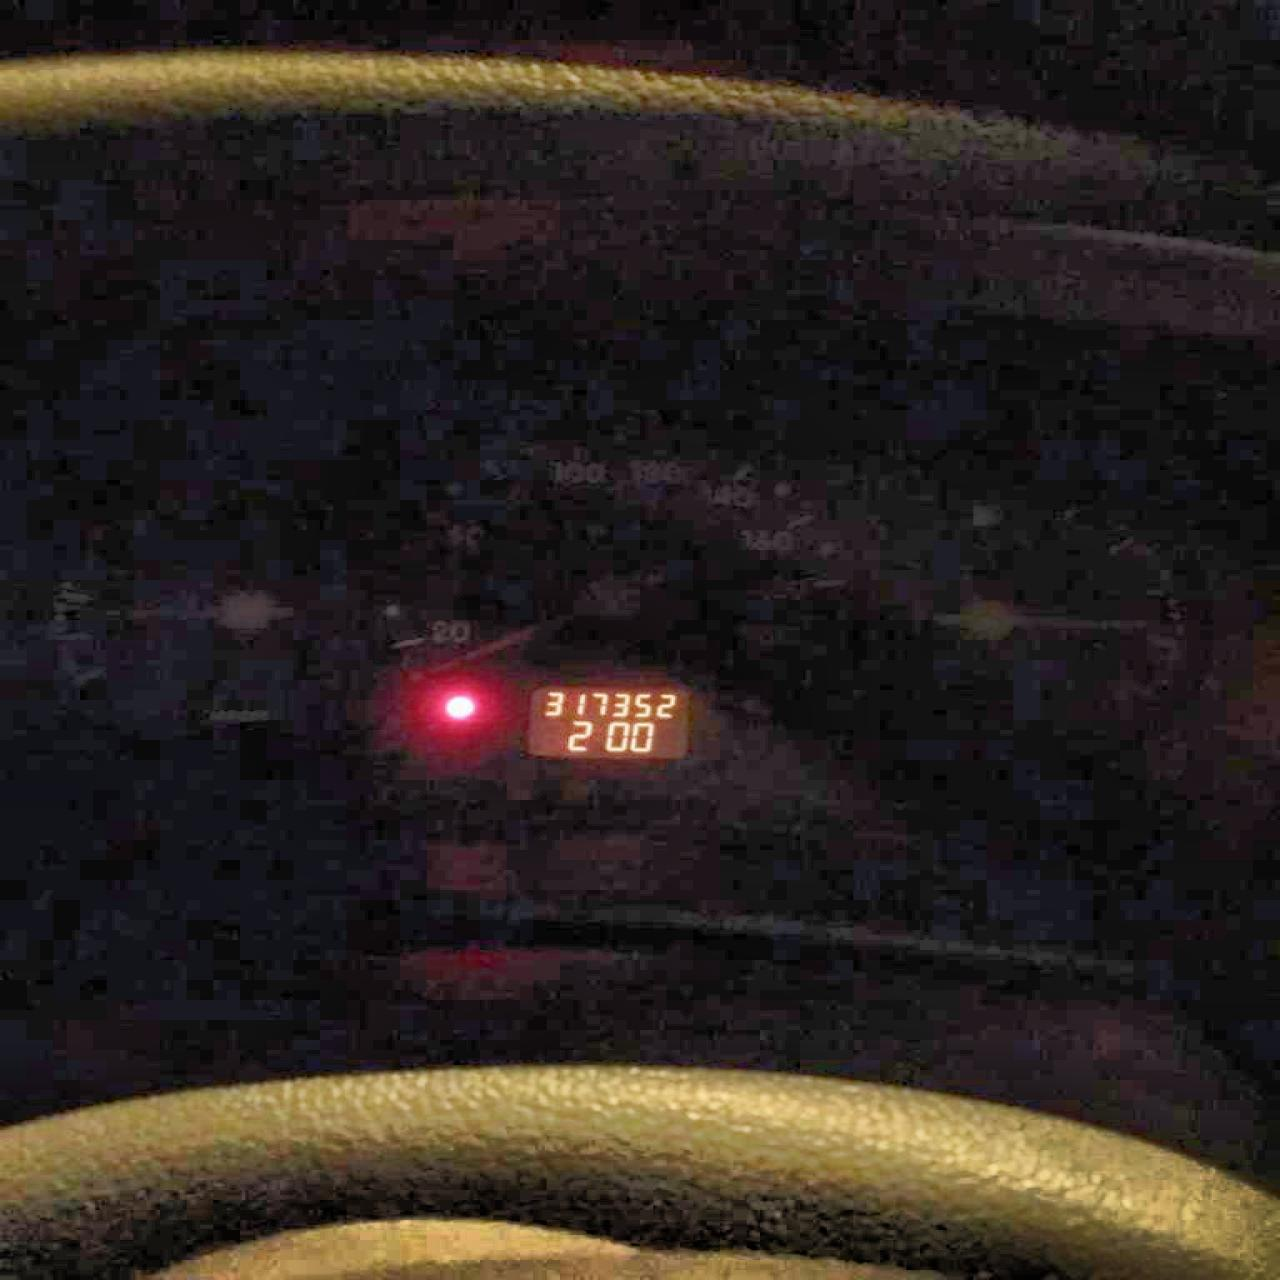0: (600, 719, 628, 753), (628, 719, 654, 751)
1: (570, 693, 587, 714)
2: (561, 717, 593, 751), (652, 693, 676, 717)
3: (539, 689, 564, 715), (608, 693, 628, 716)
5: (632, 692, 652, 717)
7: (588, 690, 608, 715)
odometer: (515, 685, 695, 764)
